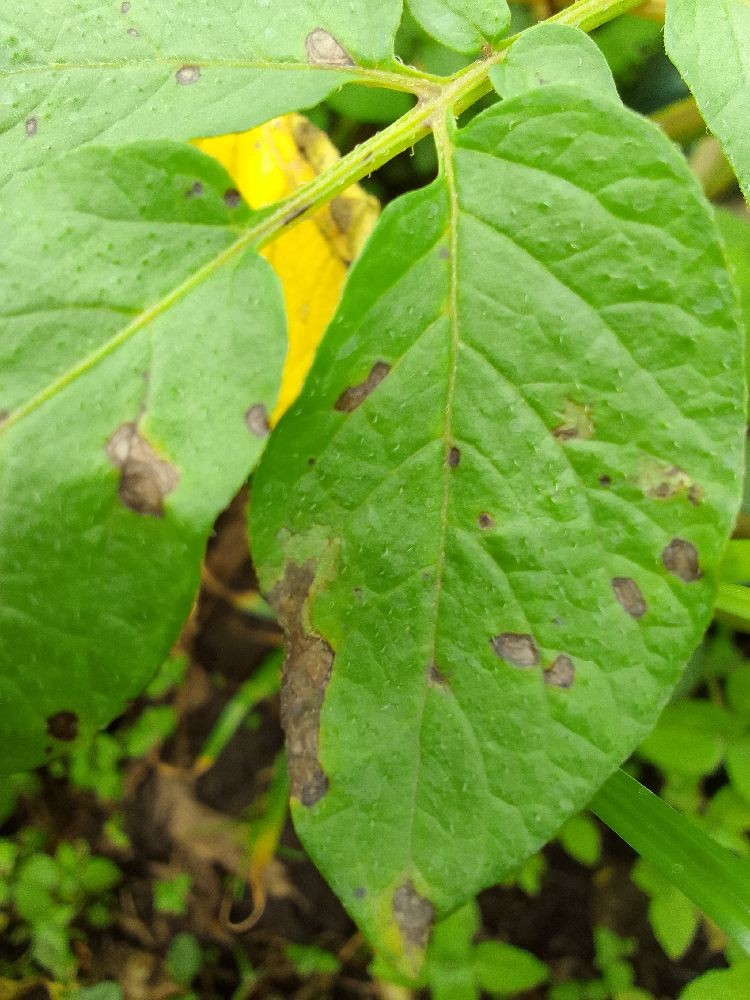late_blight: (440, 792, 750, 1000), (96, 412, 189, 530), (386, 872, 445, 960)
